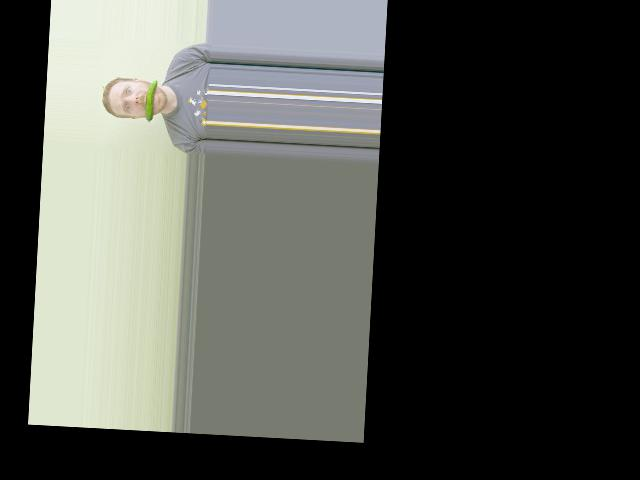cucumber: (145, 79, 158, 123)
